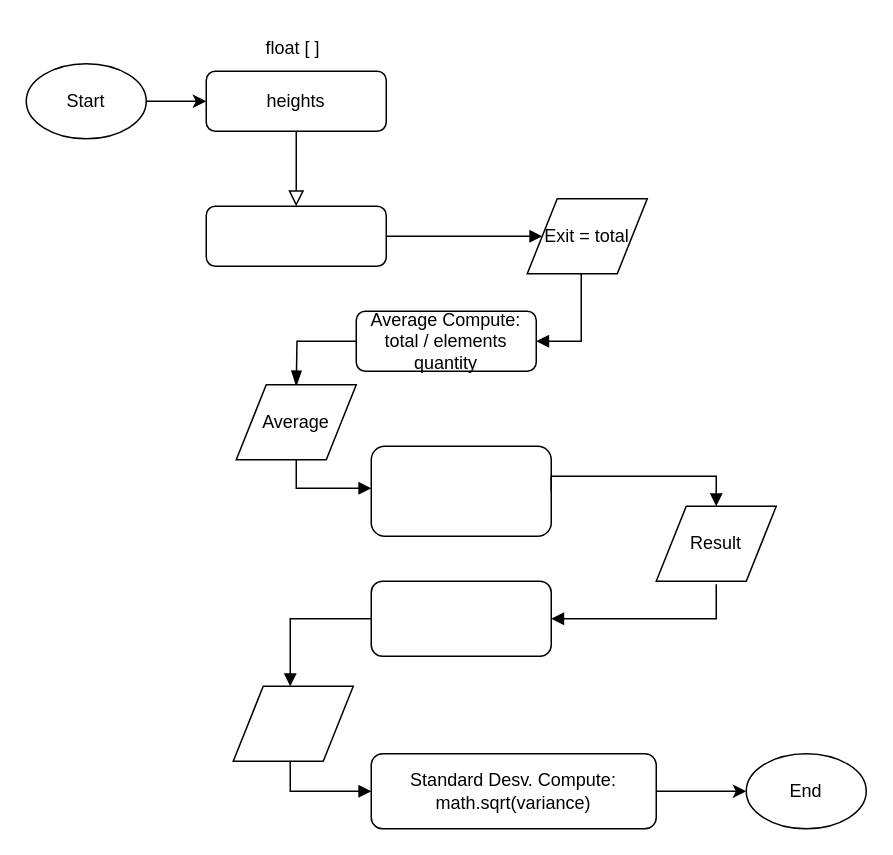
The diagram is 893 pixels wide and 855 high, and some of its shapes have lost their labels. The box of each missing label's shape, as (x1, y1, x2, y2) in pixels:
Sum all elements: (205, 205, 386, 266)
Variance: (232, 685, 353, 761)
Variance Compute: (elements - mean) **2 Raised two, late sum it: (370, 445, 551, 536)
Variance Total: result / elements quantity: (370, 580, 551, 656)
